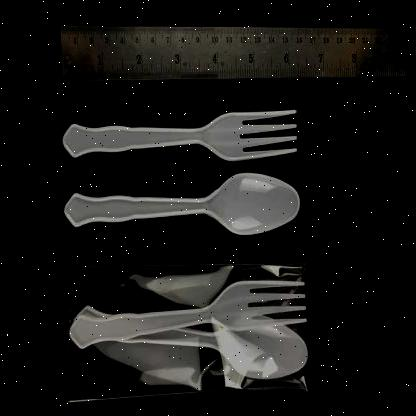Others: (62, 107, 298, 231), (67, 276, 307, 384)
